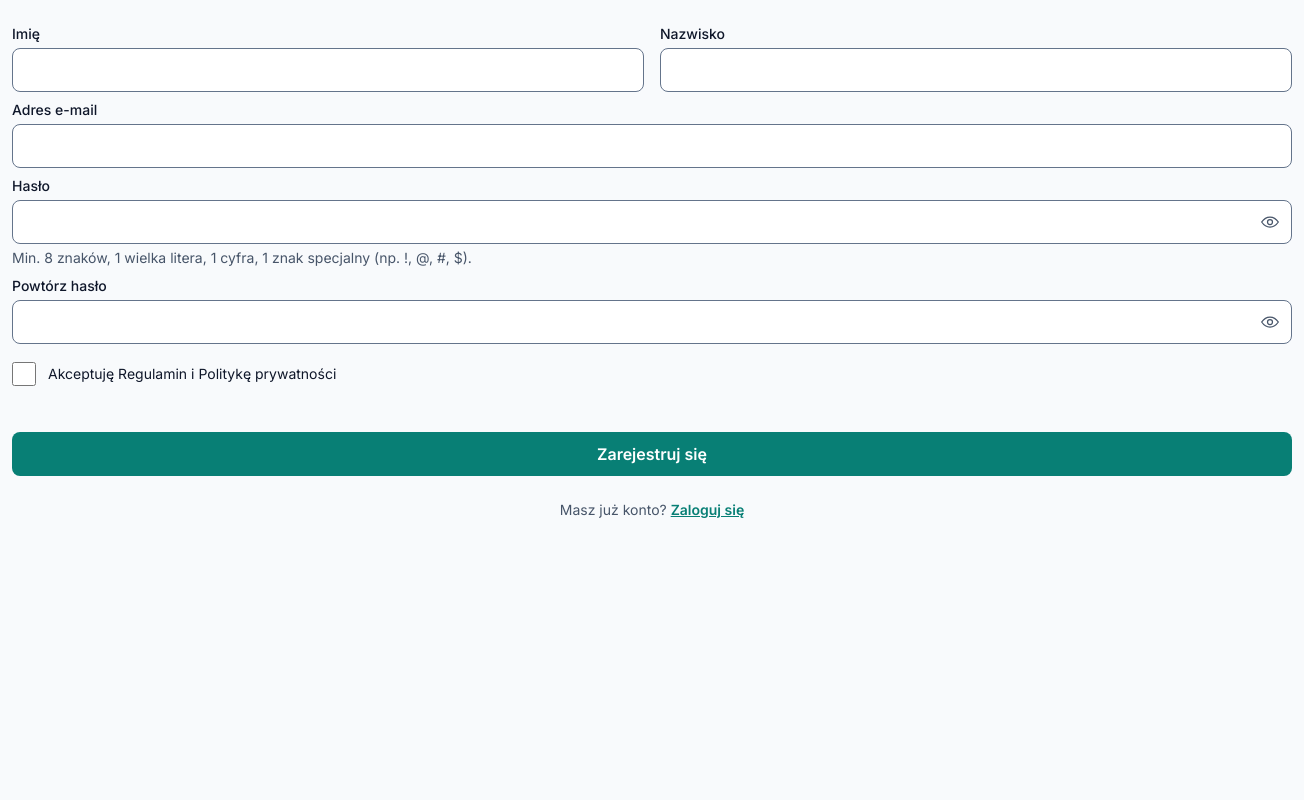
Test: RegisterForm › updates errors on change after the first submit
Step 1. Click the button "Zarejestruj się" → click(652, 454), box [12, 432, 1292, 476]
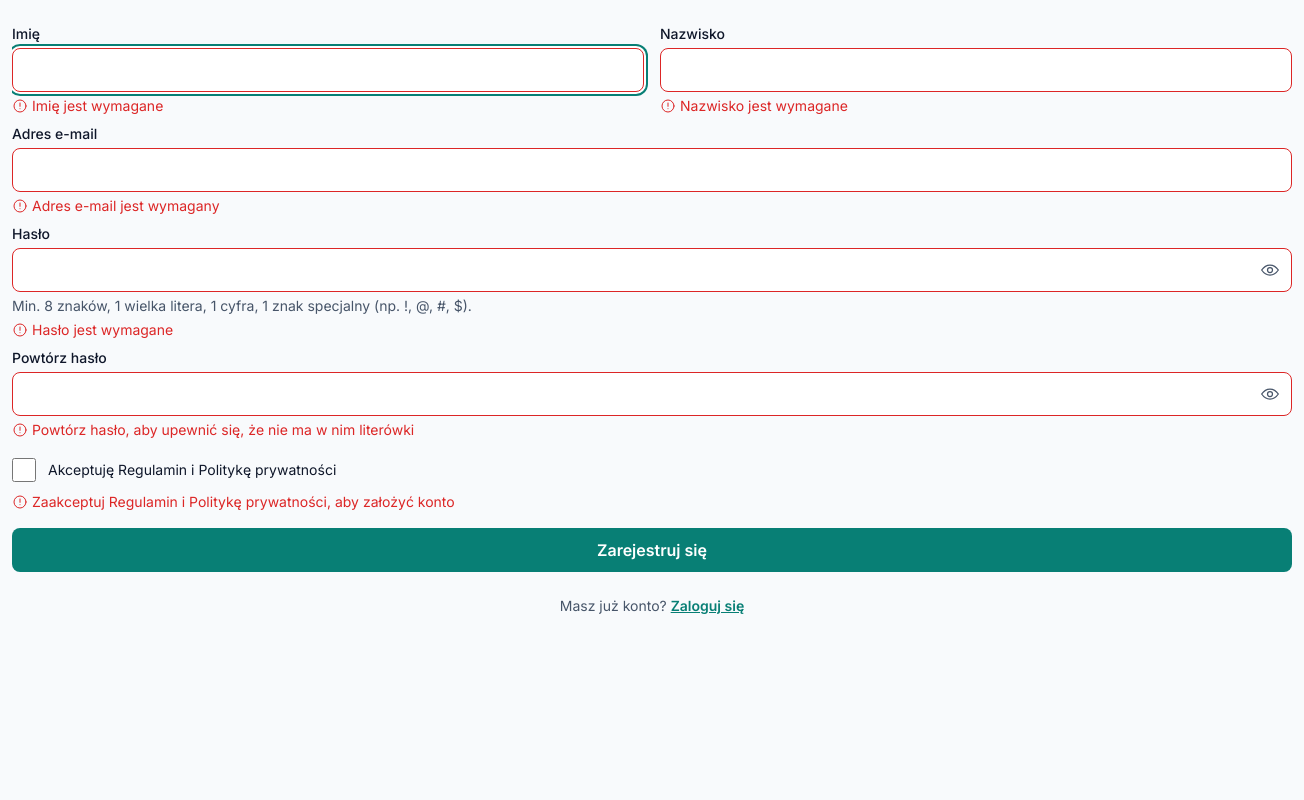
expect the text "Imię jest wymagane" is shown: met, box [12, 97, 163, 114]
Step 2. Type "Jan" into the field labelled "Imię" → (328, 70), box [12, 48, 644, 92]
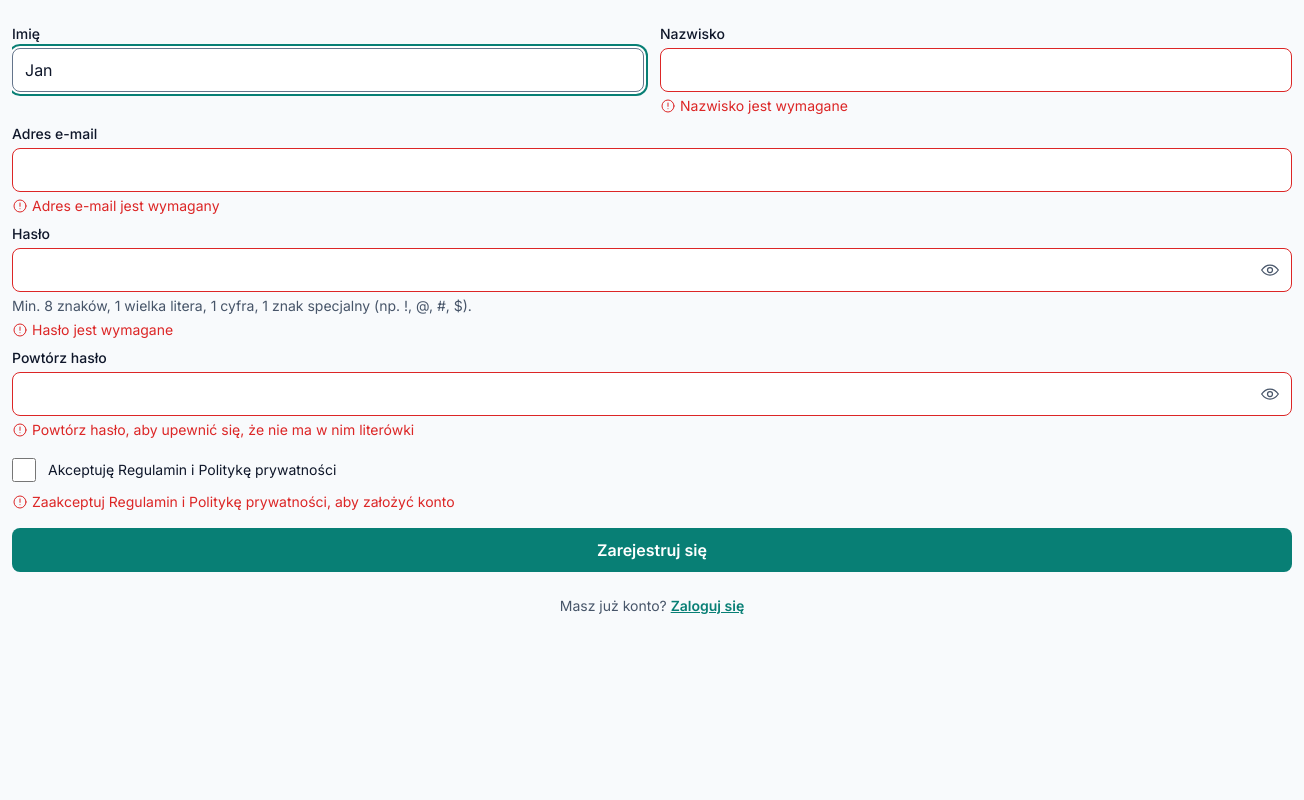
expect the text "Nazwisko jest wymagane" is shown: met, box [660, 97, 848, 114]
expect the text "Imię jest wymagane" is gone: met
